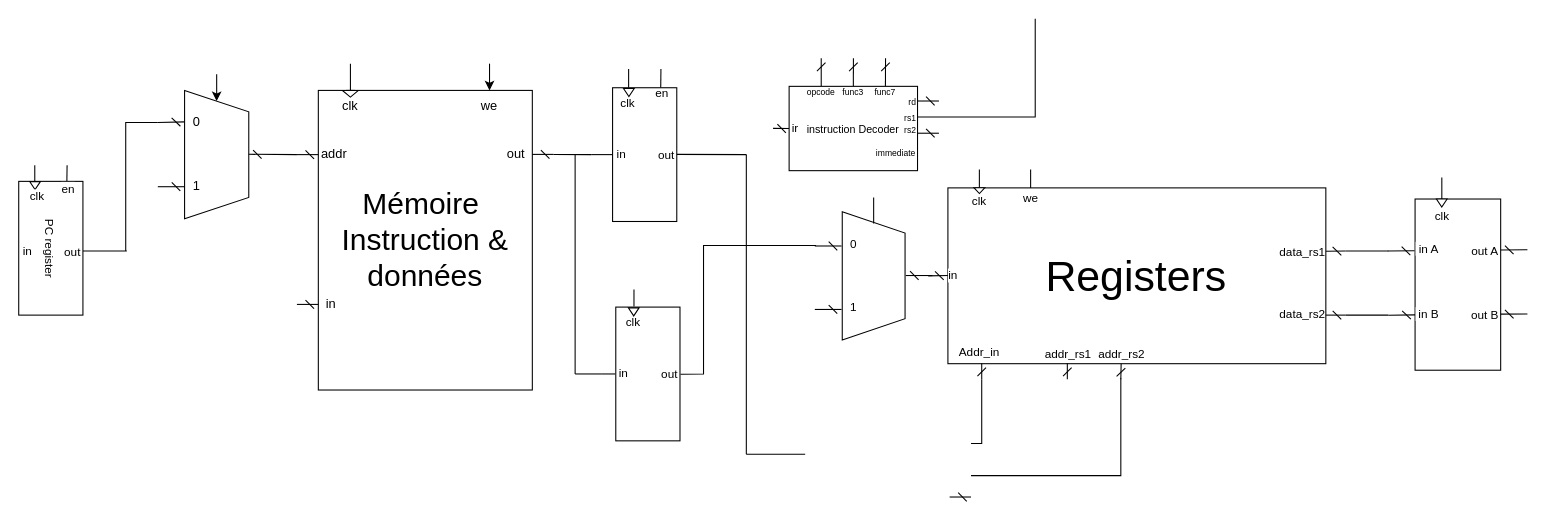
The diagram is 1555 pixels wide and 524 high, and some of its shapes have lost their labels. Each missing label, with the box of its shape:
A reg B reg: (1414, 198, 1501, 370)
dm register: (615, 306, 680, 441)
ir register: (612, 87, 677, 221)
